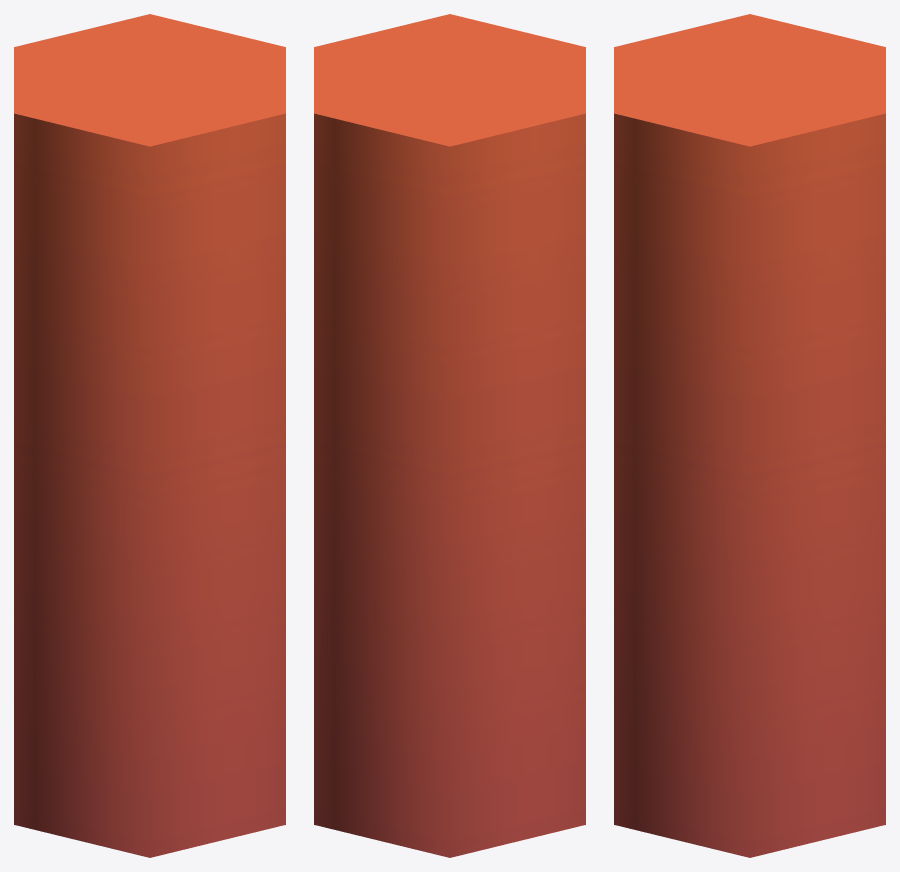
Rendered from pipe-half.fbx.
The picture shows the model from 3 angles, left to right: view 1: azimuth 30°, elevation 25°; view 2: azimuth 150°, elevation 25°; view 3: azimuth 270°, elevation 25°; orthographic projection.
Parts seen in each view (by area): view 1: pipe-half; view 2: pipe-half; view 3: pipe-half.
Boxes of the visible parts, <box> form: pipe-half: <box>14,14,285,857</box>; pipe-half: <box>314,14,585,857</box>; pipe-half: <box>614,14,885,857</box>.
Size of the model in its own units: 20 by 50 by 17.32.
